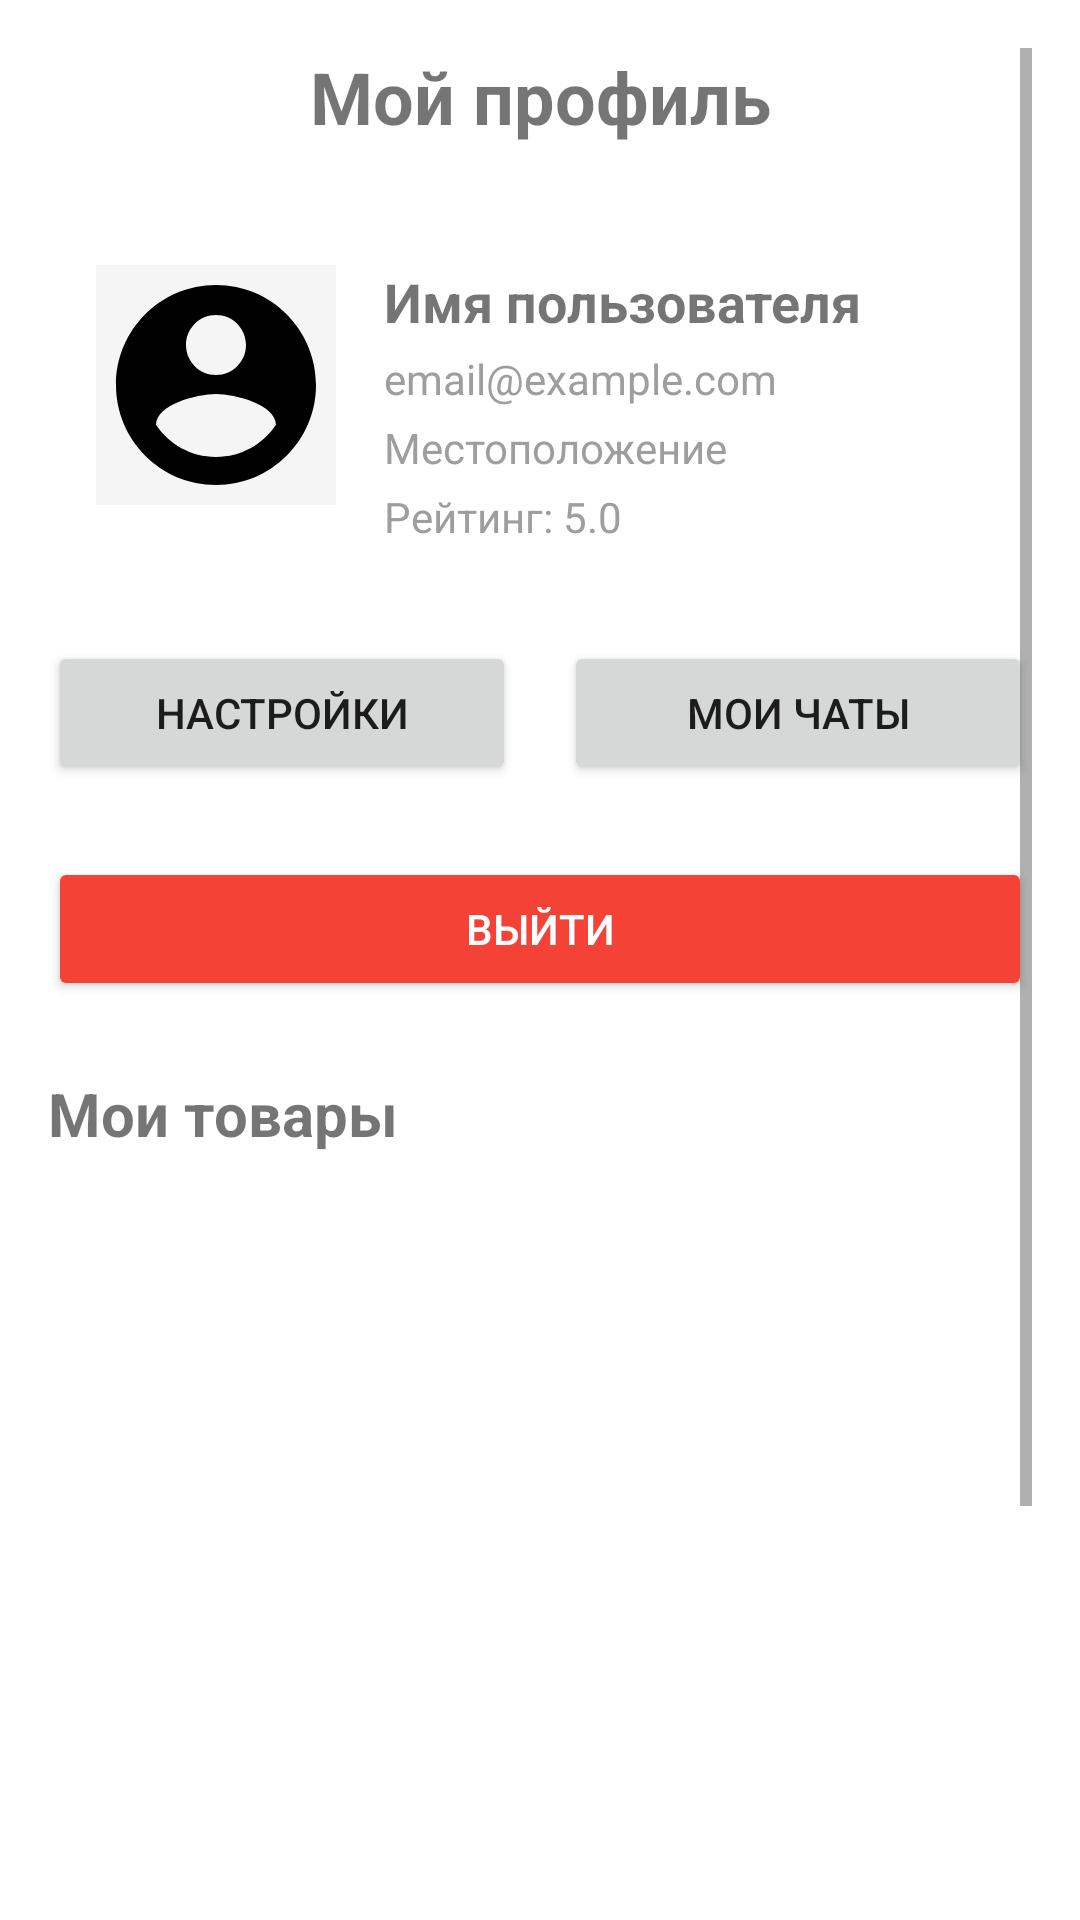

Named icons in this screenshot (1080 x 1920) and their centers, [x,y]:
profile: [215,385]
